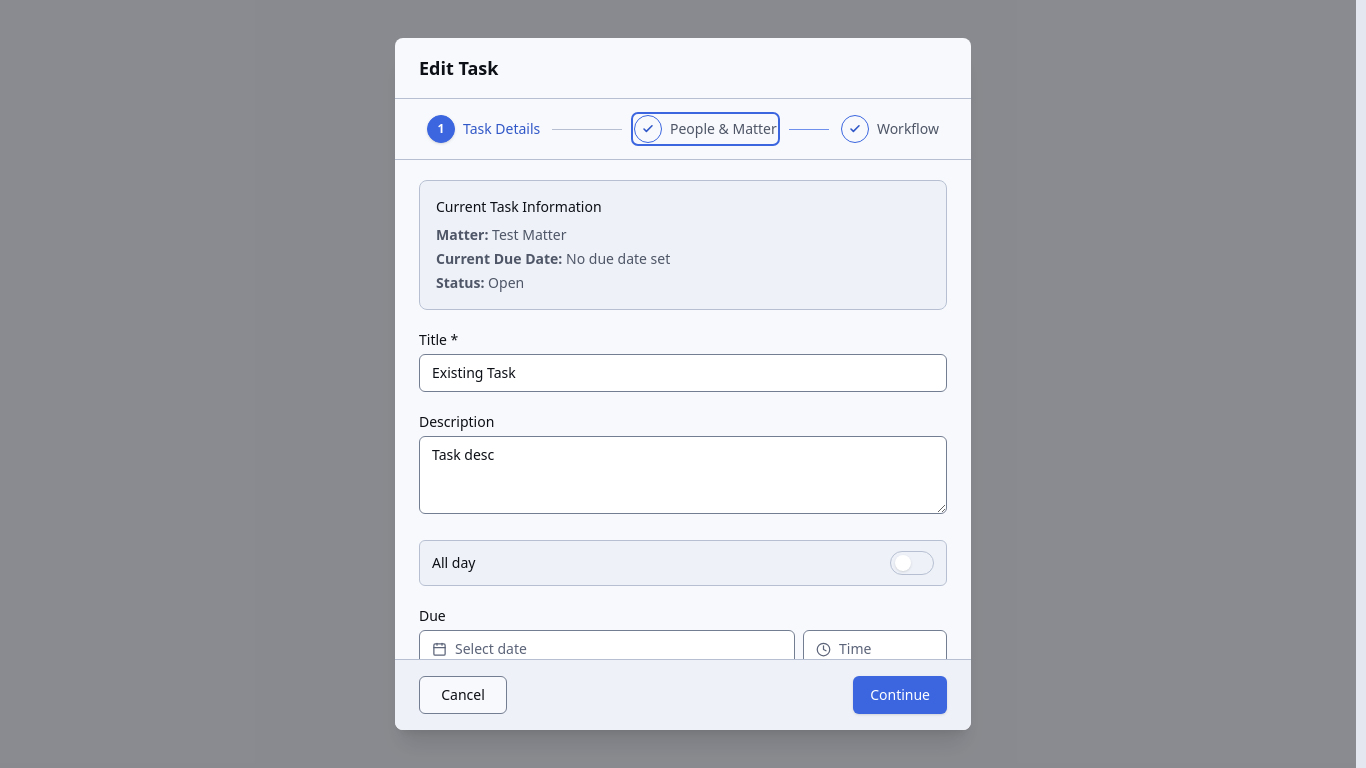
Test: EditTaskModal › sources its dependency options from the server lookup
Click the button "Continue" at (900, 695), box [853,676,947,714]
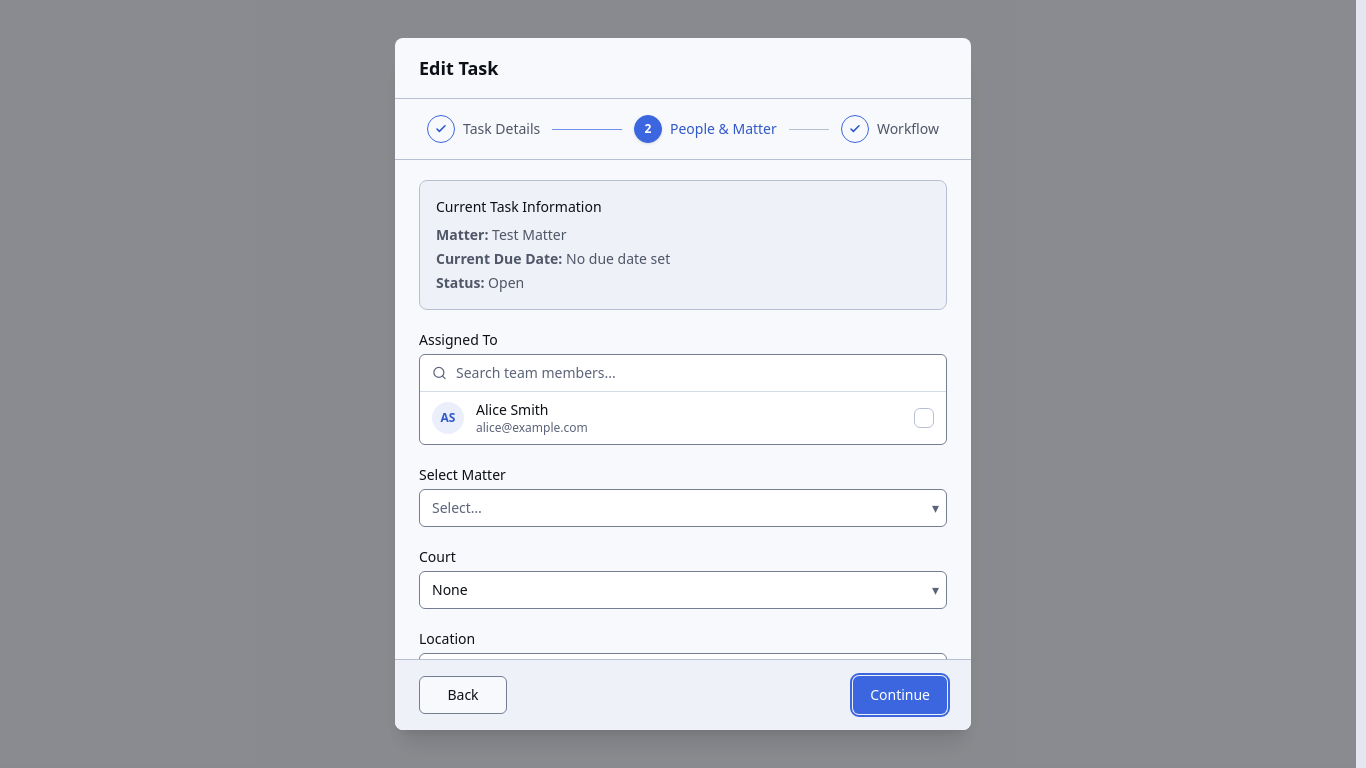
Click the button "Continue" at (900, 695), box [853,676,947,714]
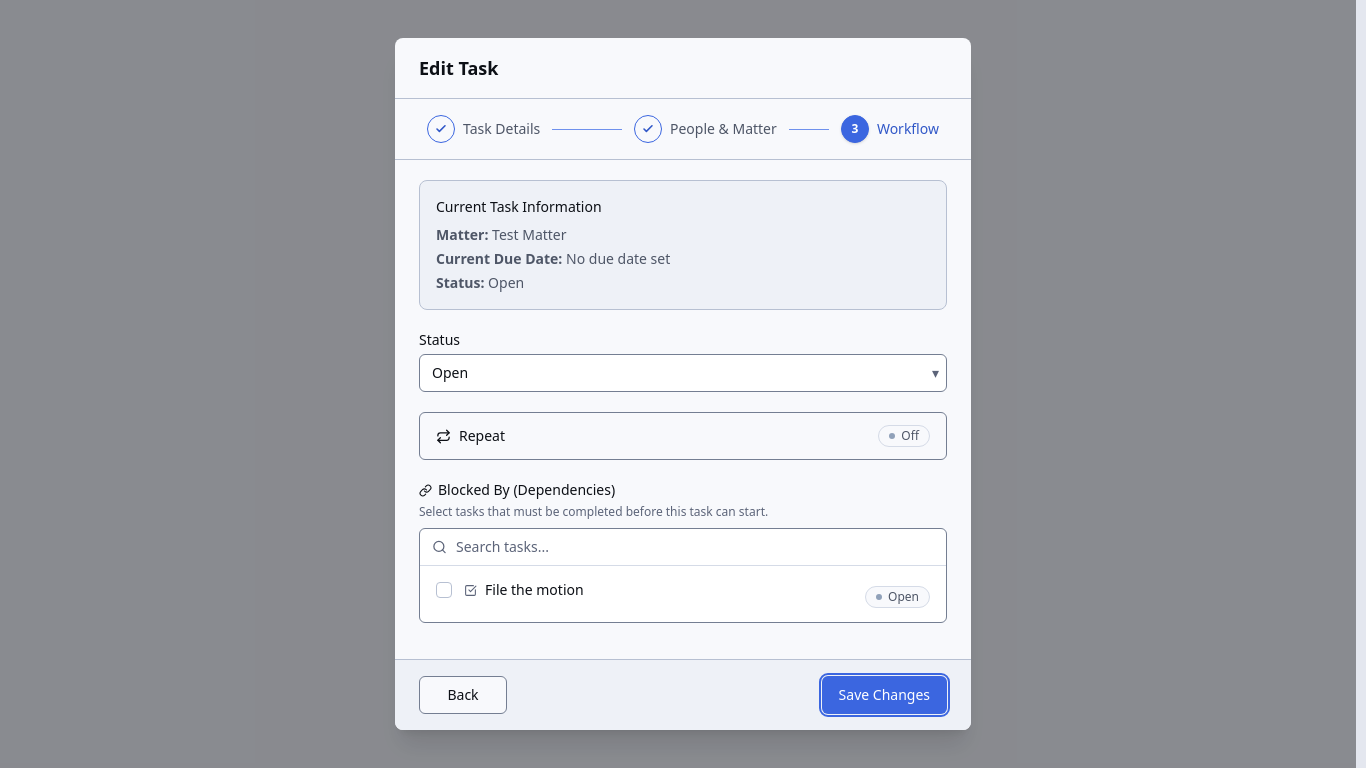
Now the text "File the motion" is shown, box [485,580,584,600]
